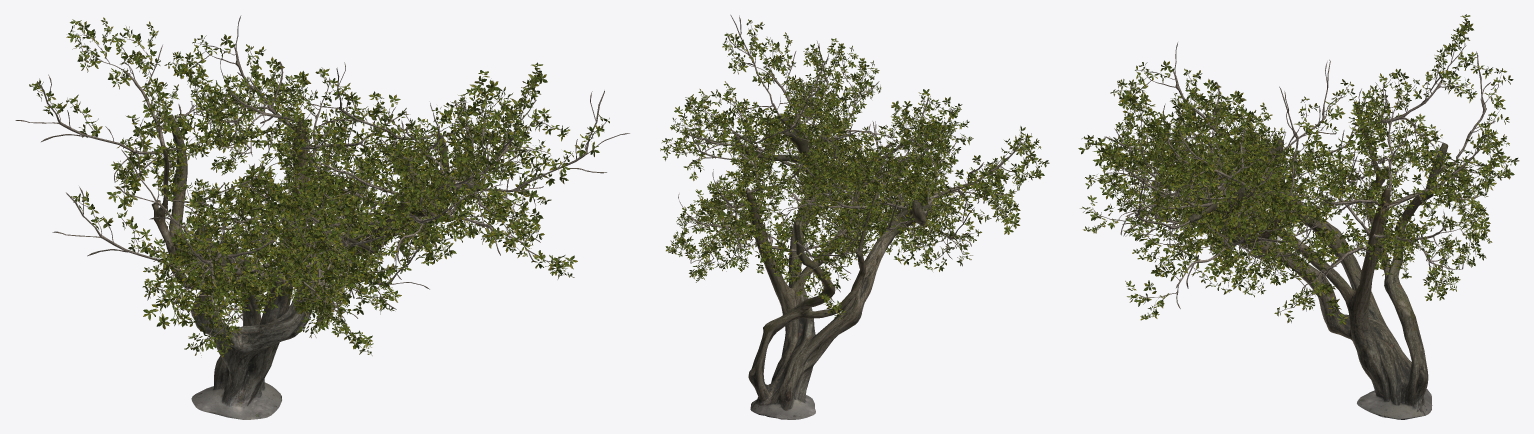
Rendered from tree-dense.glb.
3 views of the same model, side by side, from view 1: azimuth 30°, elevation 25°; view 2: azimuth 150°, elevation 25°; view 3: azimuth 270°, elevation 25° (orthographic). The views are drawn at different scales.
Visible parts, largest first — view 1: island_tree_02_LOD0; view 2: island_tree_02_LOD0; view 3: island_tree_02_LOD0.
Part boxes in pixels (x1,y1,x2,y2): island_tree_02_LOD0: (15,15,629,419); island_tree_02_LOD0: (660,14,1049,419); island_tree_02_LOD0: (1078,14,1519,419).
Size of the model in its own units: 4.21 by 3.41 by 4.07.
3 materials, 3 textured.
